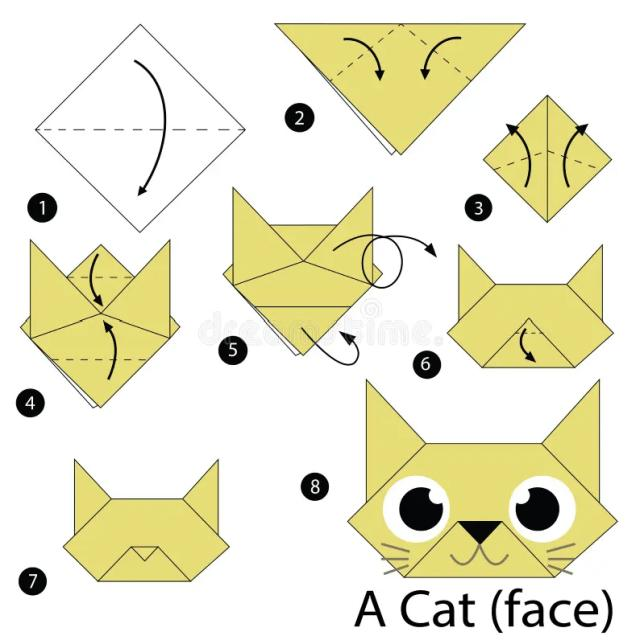arrow: (122, 51, 176, 202), (329, 226, 444, 294), (407, 25, 479, 91), (296, 318, 369, 372), (557, 111, 598, 193), (498, 118, 537, 188), (96, 316, 127, 387), (85, 250, 112, 311), (512, 325, 544, 369)
fold-line: (395, 19, 477, 86), (323, 21, 404, 86), (536, 91, 561, 233), (34, 122, 252, 138), (545, 138, 606, 181), (42, 352, 155, 372), (490, 145, 555, 176), (61, 267, 137, 287), (506, 325, 552, 345)
